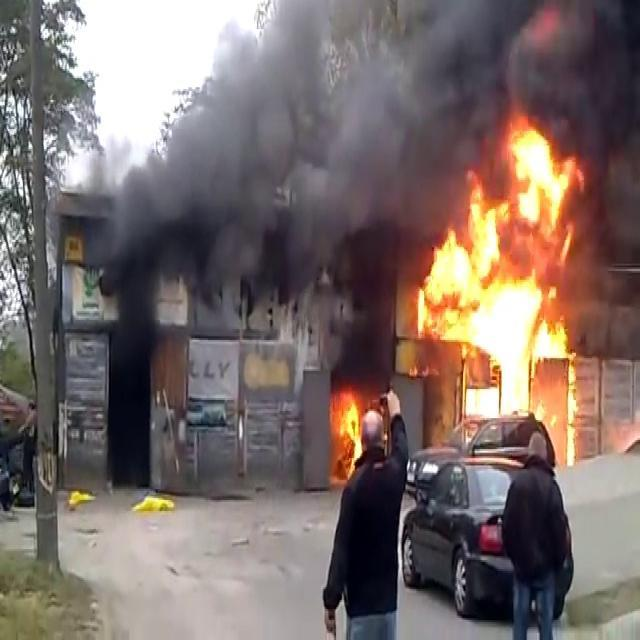Fire: (410, 109, 590, 451), (326, 378, 381, 475)
Smoke: (80, 0, 528, 329), (542, 1, 640, 348)
